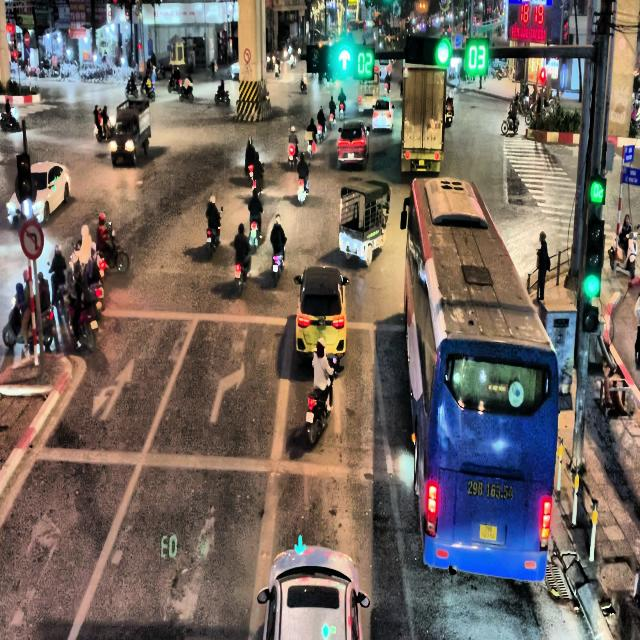lisence_plate: (464, 474, 516, 504), (478, 522, 498, 542), (418, 159, 426, 166), (348, 154, 354, 158)
